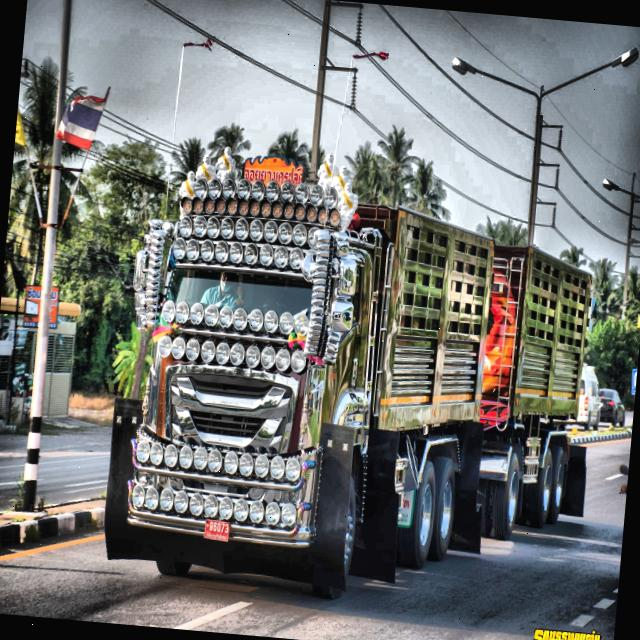trailer: (101, 140, 594, 611)
